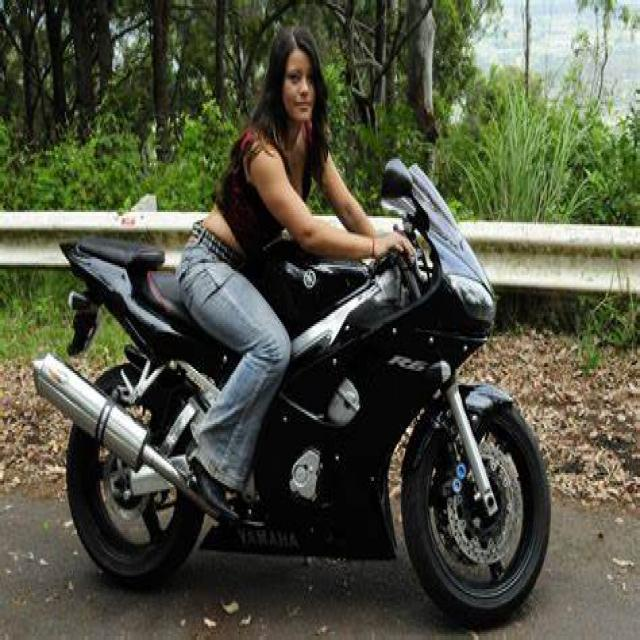Not Wearing Helmet: (225, 32, 354, 192)
